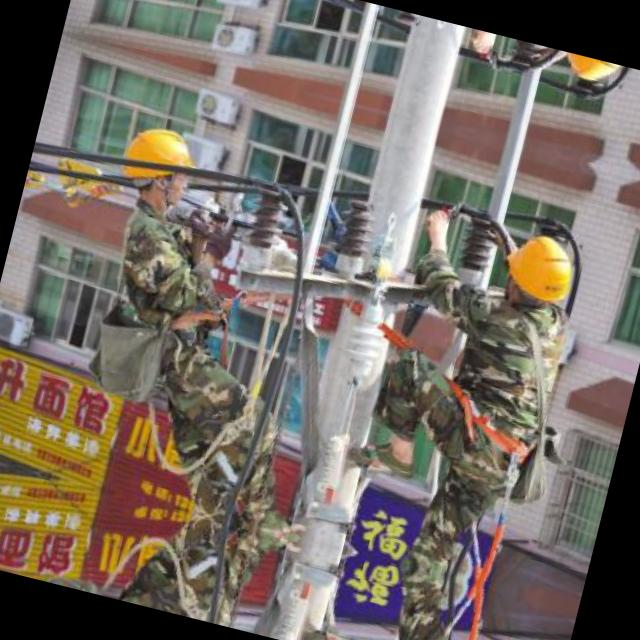helmet: (106, 109, 210, 218), (495, 220, 587, 314), (549, 50, 630, 94), (156, 0, 249, 13)
